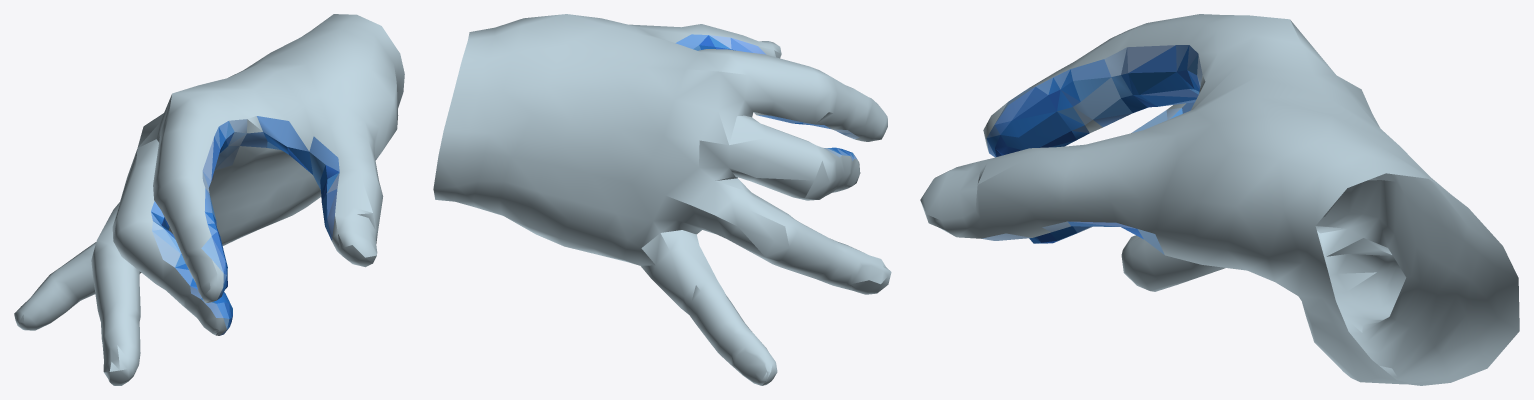
The model's file is mocap_tripod.glb.
The picture shows the model from 3 angles, left to right: view 1: azimuth 30°, elevation 25°; view 2: azimuth 150°, elevation 25°; view 3: azimuth 270°, elevation 25°; orthographic projection. The views are drawn at different scales.
Parts seen in each view (by area): view 1: mesh0; view 2: mesh0; view 3: mesh0.
Part boxes in pixels (bbox=[...]): mesh0: bbox=[14, 14, 404, 385]; mesh0: bbox=[433, 14, 891, 385]; mesh0: bbox=[920, 14, 1519, 385].
Size of the model in its own units: 0.1518 by 0.1053 by 0.1468.
